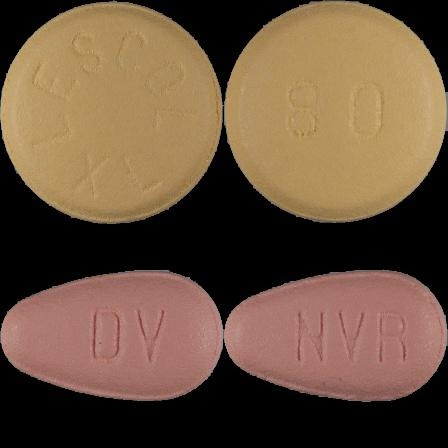0078-0354: (0, 0, 224, 224)
